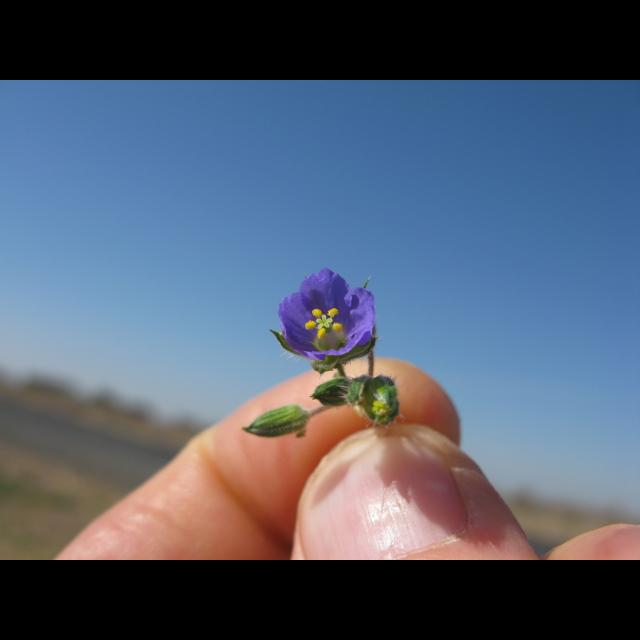Flower: (280, 266, 374, 370)
